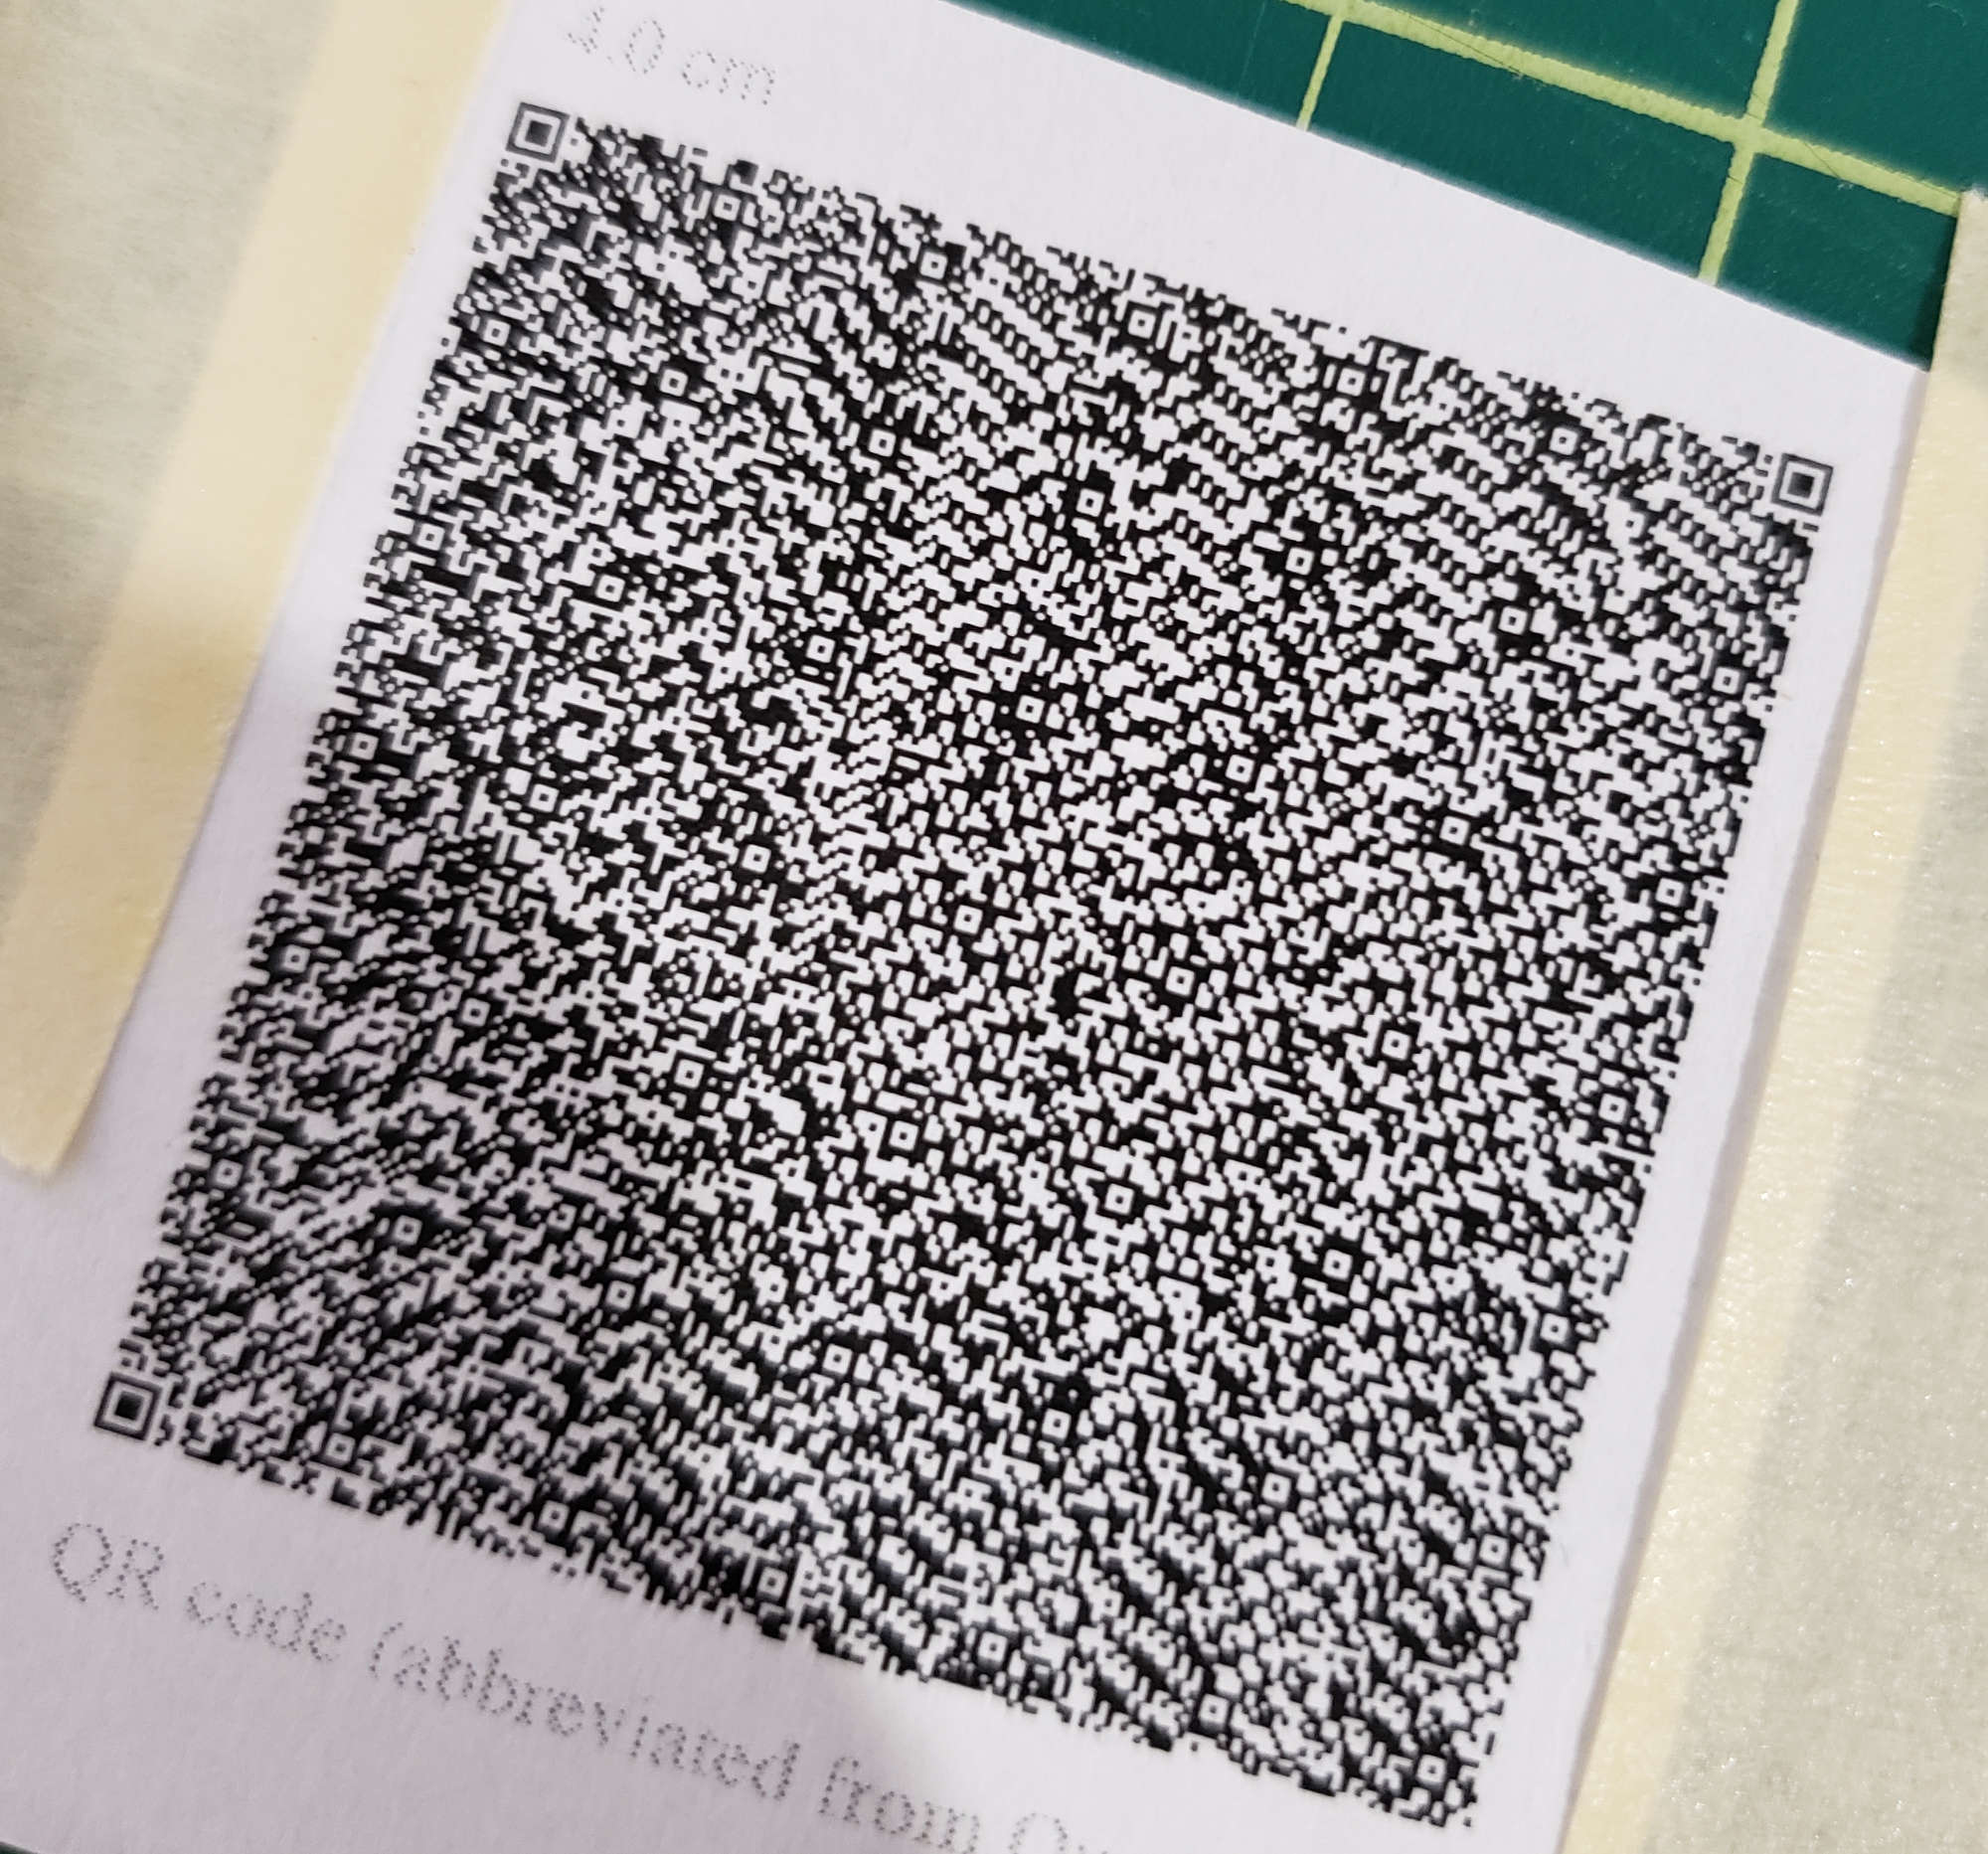QR_CODE: (54, 40, 1927, 1849)
